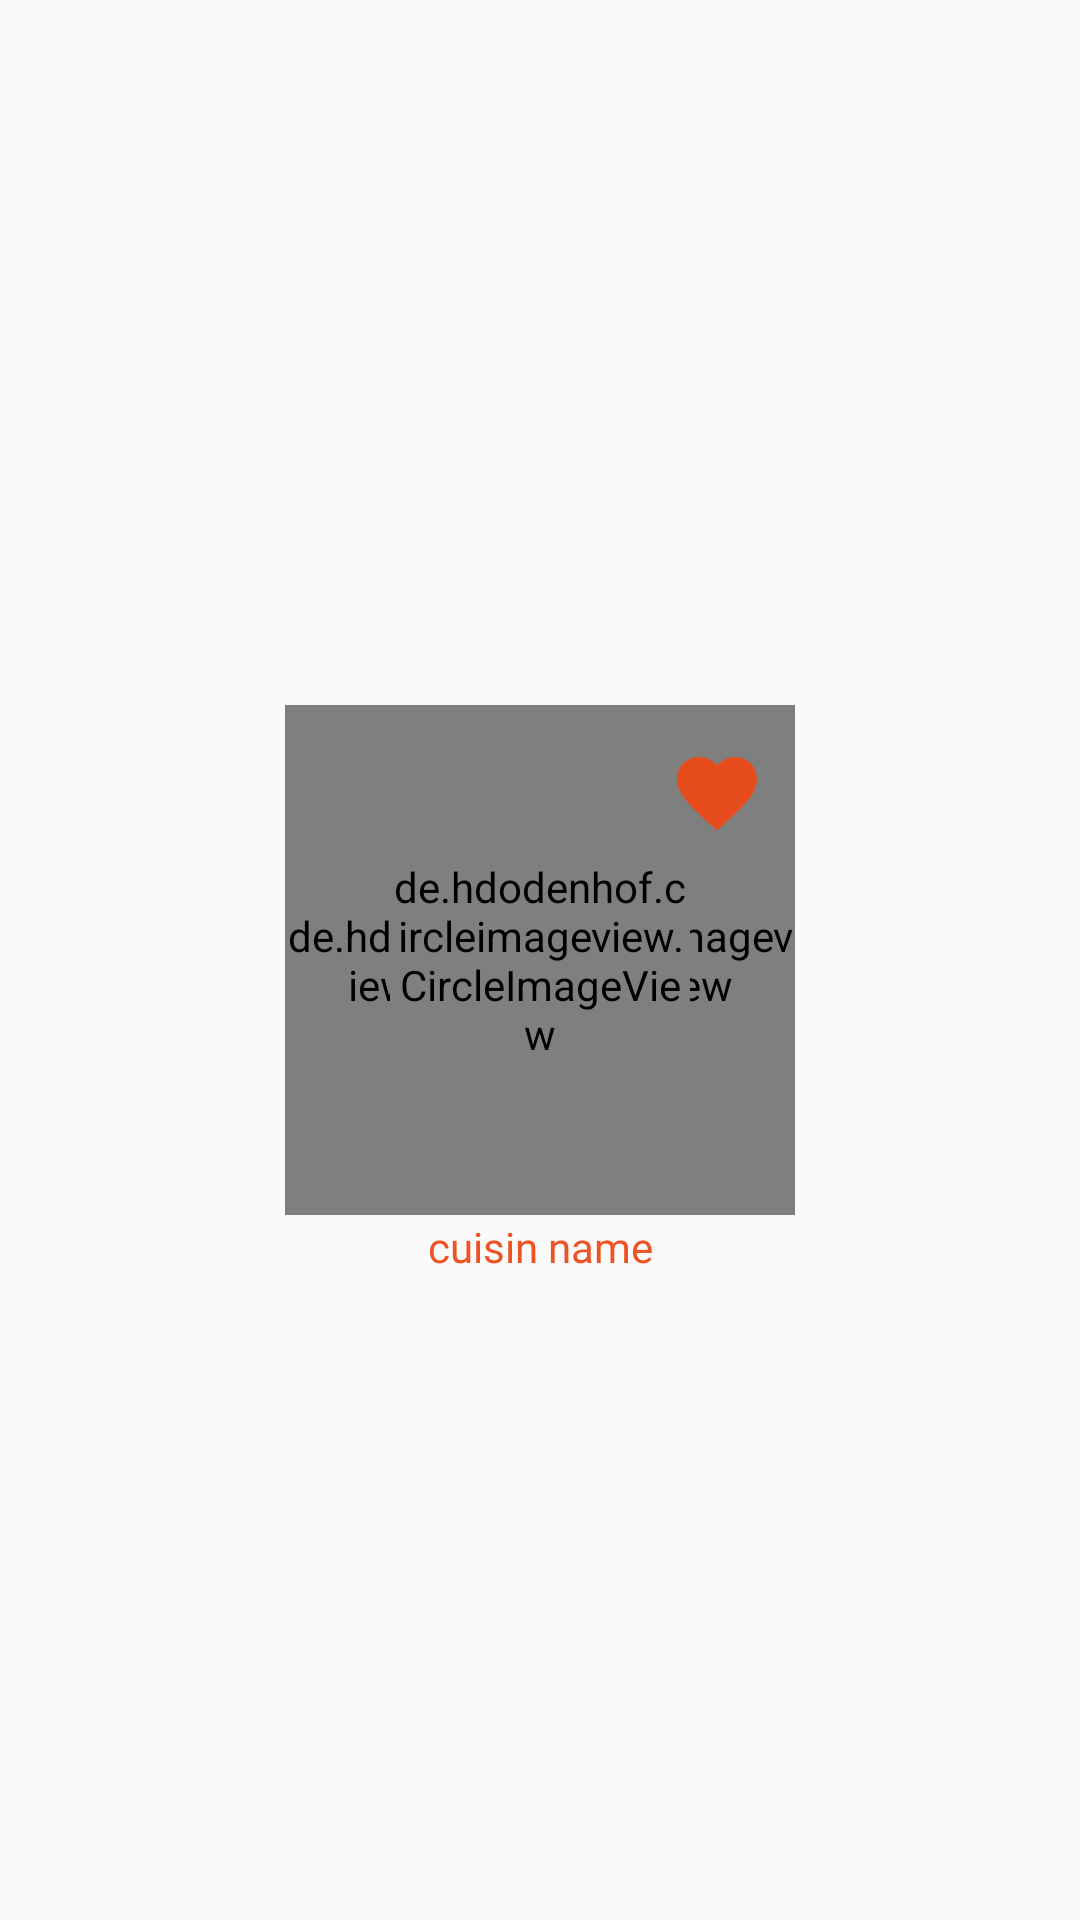

Icons on this 1080×1920 Android screen, each with the point to tap as point (x, y):
favorite: point (717, 793)
